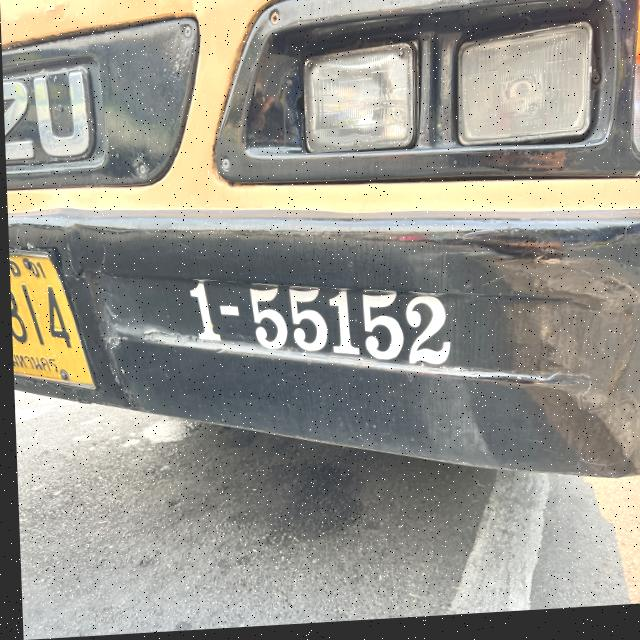BMTA-bus: (0, 0, 640, 532)
Bus Side Number: (177, 254, 470, 400)
